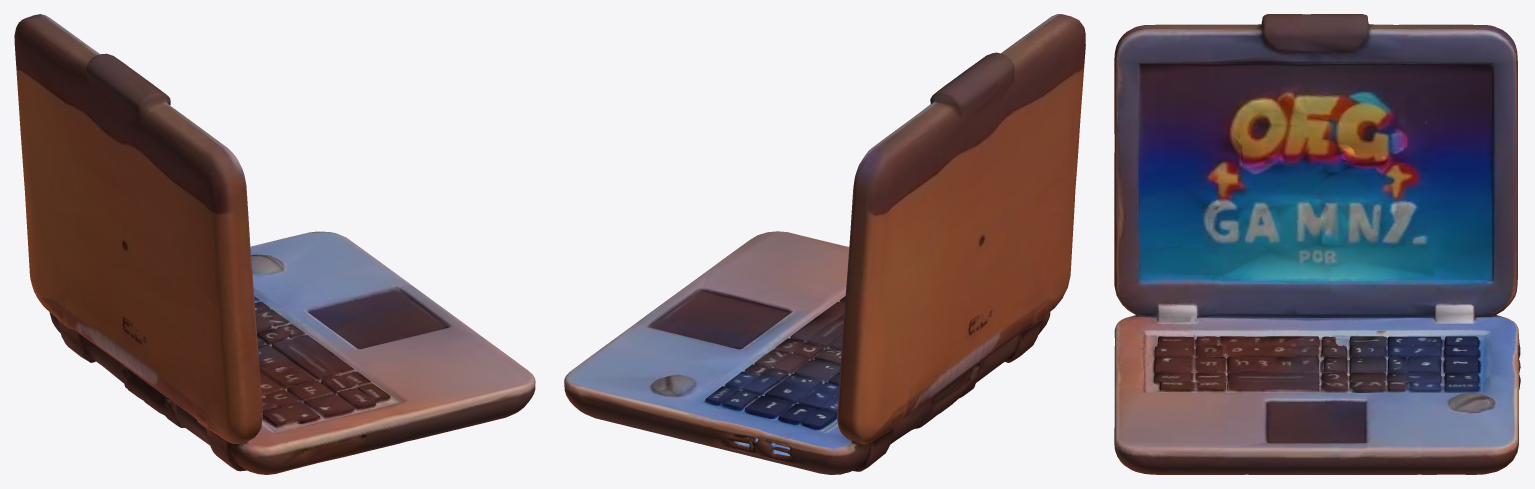
Rendered from laptop.glb.
The picture shows the model from 3 angles, left to right: view 1: azimuth 30°, elevation 25°; view 2: azimuth 150°, elevation 25°; view 3: azimuth 270°, elevation 25°; orthographic projection. The views are drawn at different scales.
Visible parts, largest first — view 1: tripo_node_b2731e51-0c4a-47fa-b5ad-7ee87884b316; view 2: tripo_node_b2731e51-0c4a-47fa-b5ad-7ee87884b316; view 3: tripo_node_b2731e51-0c4a-47fa-b5ad-7ee87884b316.
Part boxes in pixels (<box>): tripo_node_b2731e51-0c4a-47fa-b5ad-7ee87884b316: <box>14,14,535,474</box>; tripo_node_b2731e51-0c4a-47fa-b5ad-7ee87884b316: <box>564,14,1085,474</box>; tripo_node_b2731e51-0c4a-47fa-b5ad-7ee87884b316: <box>1114,14,1520,474</box>.
Bounding box in the file's own units: 0.8348 × 0.863 × 0.9478.
Materials: 1 (1 with a texture image).
